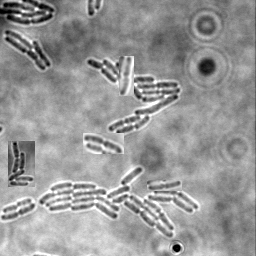Dividing: (83, 133, 124, 154), (1, 204, 37, 222), (119, 56, 134, 96), (3, 199, 33, 215), (147, 180, 182, 191)
Microcolony: (40, 167, 199, 238), (87, 59, 181, 136), (5, 30, 52, 72), (1, 1, 56, 26), (8, 141, 35, 187)
